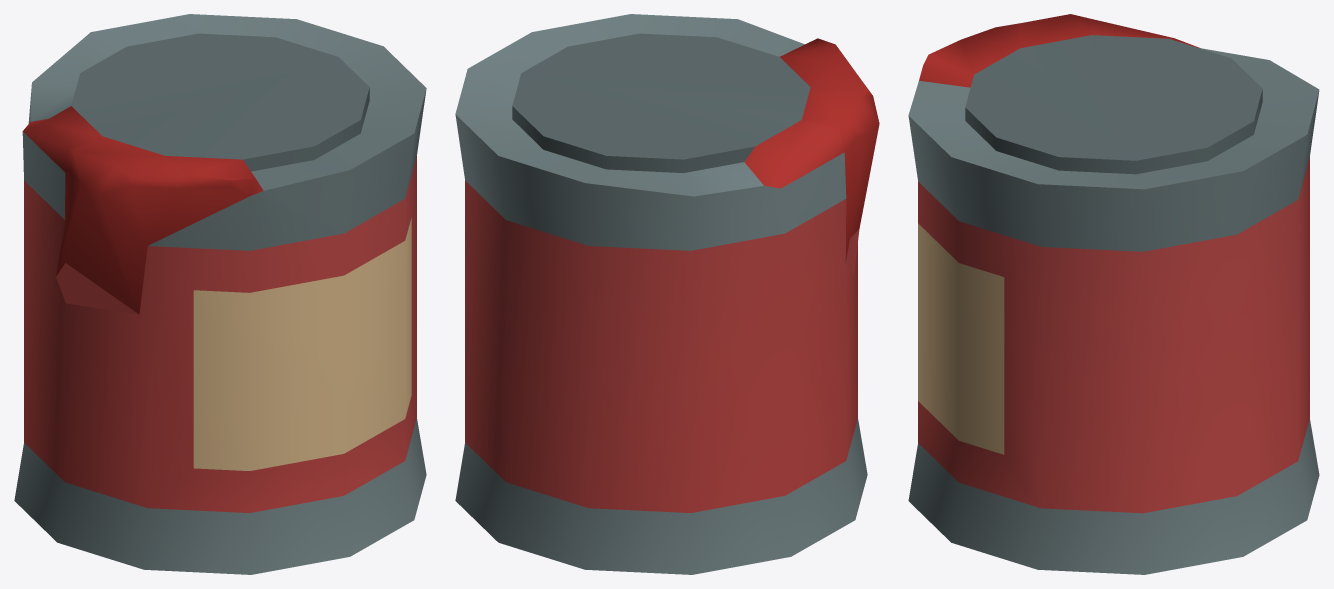
File: Paint.fbx
The picture shows the model from 3 angles, left to right: view 1: azimuth 30°, elevation 25°; view 2: azimuth 150°, elevation 25°; view 3: azimuth 270°, elevation 25°; orthographic projection.
Parts seen in each view (by area): view 1: Paint; view 2: Paint; view 3: Paint.
Boxes of the visible parts, box(x1,y1,x2,y2) form: Paint: box(14, 14, 426, 574); Paint: box(455, 14, 879, 574); Paint: box(908, 14, 1319, 574).
Size of the model in its own units: 47.13 by 49.98 by 47.13.
